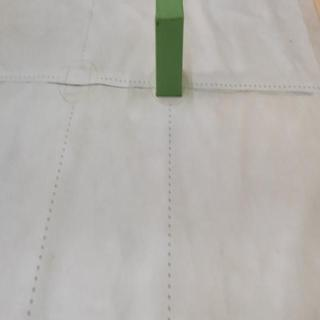greenbox: (156, 0, 184, 95)
